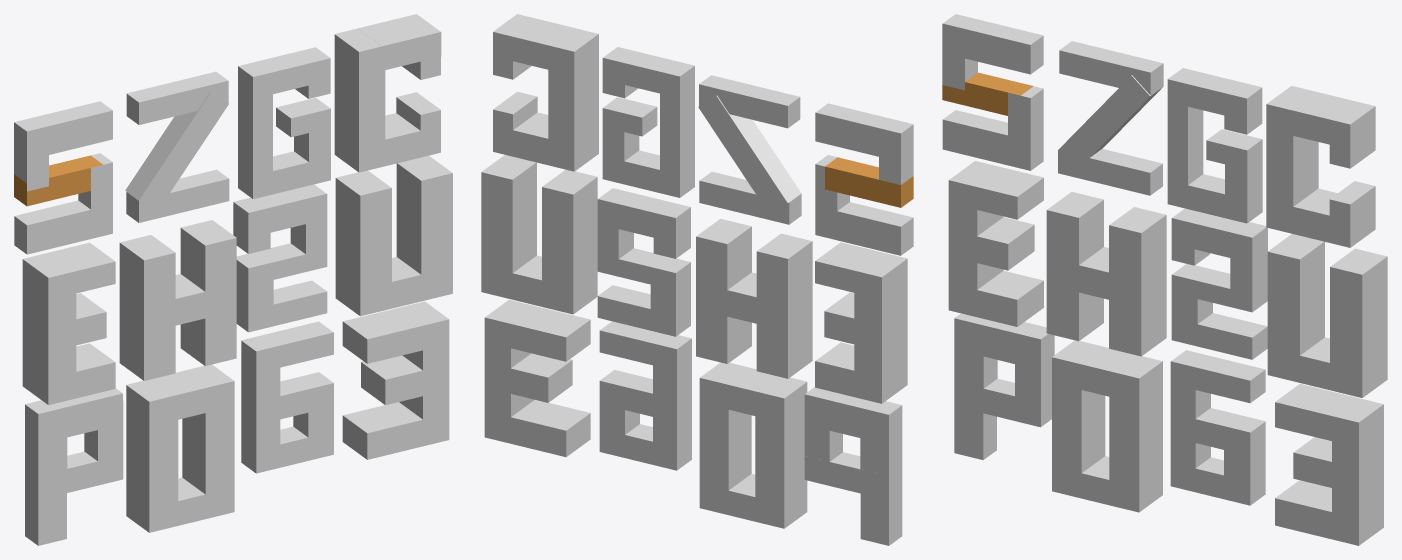
The model's file is imanes.fbx.
3 views of the same model, side by side, from view 1: azimuth 30°, elevation 25°; view 2: azimuth 150°, elevation 25°; view 3: azimuth 330°, elevation 25° (orthographic). The views are drawn at different scales.
Parts seen in each view (by area): view 1: mesh_id412, mesh_id184, H, mesh_id319, mesh_id271, E, 5.001, mesh_id199, G, mesh_id140, mesh_id368, Z.001; view 2: mesh_id412, mesh_id184, H, mesh_id319, mesh_id271, E, 5.001, G, mesh_id140, mesh_id199, mesh_id368, Z.001; view 3: mesh_id412, mesh_id184, H, mesh_id319, mesh_id271, E, 5.001, G, mesh_id199, mesh_id140, mesh_id368, Z.001.
Boxes of the visible parts, <box> form: mesh_id412: <box>126,364,234,532</box>; mesh_id184: <box>335,155,452,316</box>; H: <box>119,220,236,380</box>; mesh_id319: <box>342,301,449,459</box>; mesh_id271: <box>334,14,441,172</box>; E: <box>22,242,115,405</box>; 5.001: <box>14,101,112,254</box>; mesh_id199: <box>241,321,333,473</box>; G: <box>238,47,330,199</box>; mesh_id140: <box>233,184,327,332</box>; mesh_id368: <box>25,388,123,545</box>; Z.001: <box>125,71,229,222</box>; mesh_id412: <box>699,362,807,528</box>; mesh_id184: <box>481,155,597,314</box>; H: <box>696,218,812,378</box>; mesh_id319: <box>484,299,590,457</box>; mesh_id271: <box>493,14,598,171</box>; E: <box>815,242,907,403</box>; 5.001: <box>815,103,913,255</box>; G: <box>602,47,694,197</box>; mesh_id140: <box>597,188,690,336</box>; mesh_id199: <box>599,321,691,470</box>; mesh_id368: <box>804,387,902,545</box>; Z.001: <box>698,75,801,224</box>; mesh_id412: <box>1052,340,1162,512</box>; mesh_id184: <box>1267,234,1387,397</box>; H: <box>1046,192,1166,356</box>; mesh_id319: <box>1275,384,1383,545</box>; mesh_id271: <box>1266,86,1375,247</box>; E: <box>948,161,1043,326</box>; 5.001: <box>942,14,1043,170</box>; G: <box>1167,68,1262,223</box>; mesh_id199: <box>1170,350,1265,505</box>; mesh_id140: <box>1171,208,1267,359</box>; mesh_id368: <box>954,313,1054,459</box>; Z.001: <box>1058,41,1163,195</box>.
Bounding box in the file's own units: 426 × 418 × 45.6.
